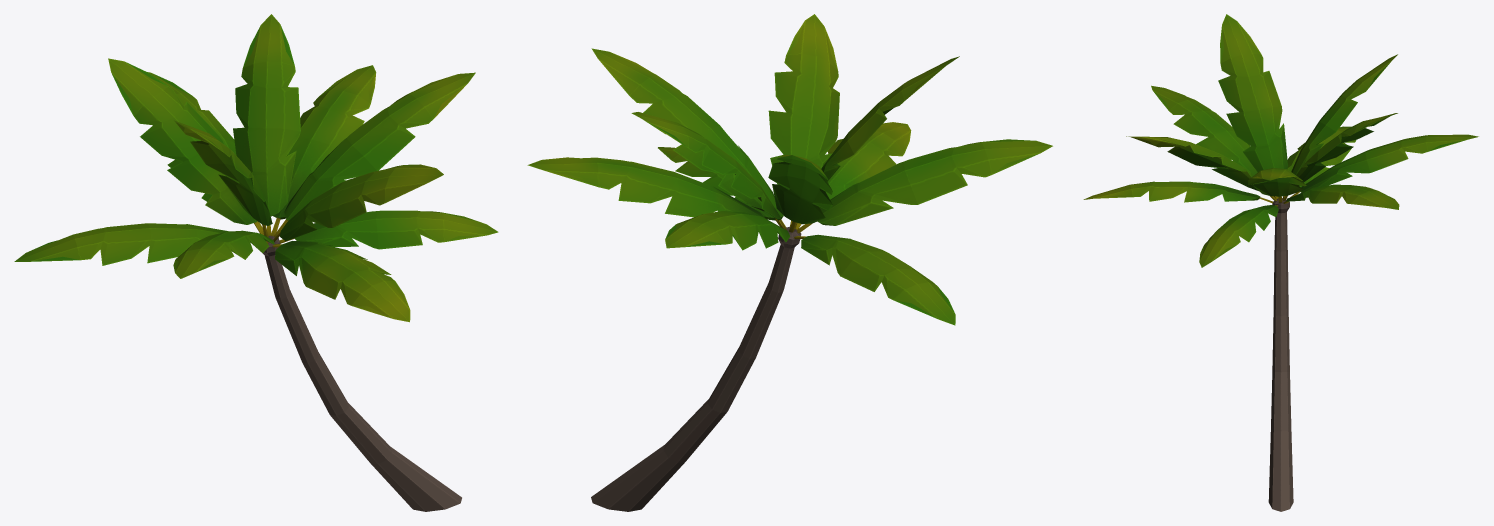
Rendered from PalmTree.dae.
The picture shows the model from 3 angles, left to right: view 1: azimuth 30°, elevation 25°; view 2: azimuth 150°, elevation 25°; view 3: azimuth 270°, elevation 25°; orthographic projection. The views are drawn at different scales.
Visible parts, largest first — view 1: defaultobject; view 2: defaultobject; view 3: defaultobject.
Part boxes in pixels (x1,y1,x2,y2): defaultobject: [14, 14, 498, 511]; defaultobject: [527, 14, 1052, 511]; defaultobject: [1083, 14, 1478, 511].
Bounding box in the file's own units: 15.28 × 17.24 × 16.55.
1 material, 1 textured.
